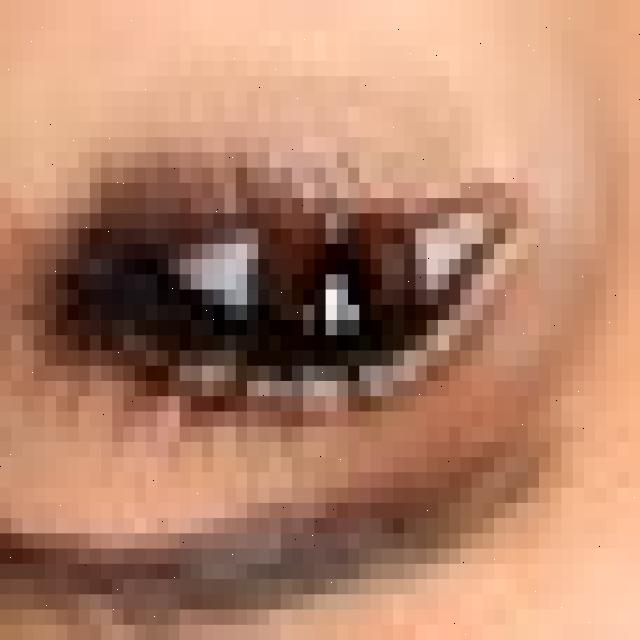Normal: (251, 173, 419, 397)
